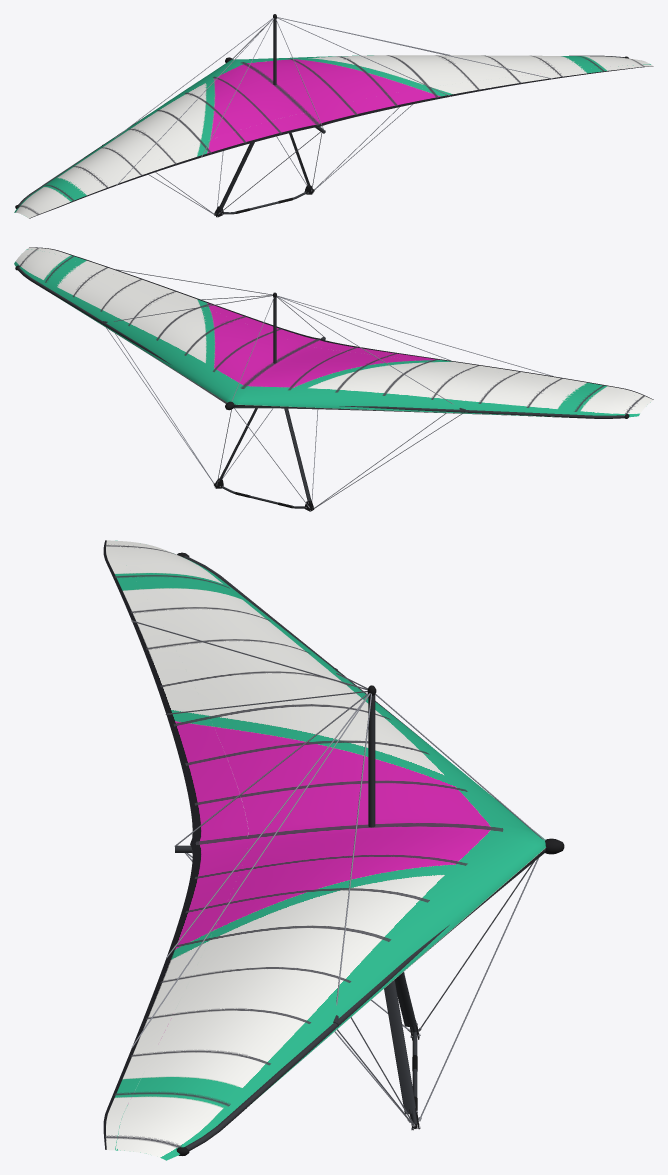
The model's file is glider_ww_u2.glb.
3 renders of one model, top to bottom at view 1: azimuth 30°, elevation 25°; view 2: azimuth 150°, elevation 25°; view 3: azimuth 270°, elevation 25°, orthographic. The views are drawn at different scales.
Parts seen in each view (by area): view 1: Sail, Frame, ControlFrame; view 2: Sail, Frame, ControlFrame; view 3: Sail, Frame, ControlFrame.
Boxes of the visible parts, x1,y1,x2,y2 form: Sail: [14, 55, 653, 218]; Frame: [15, 14, 628, 208]; ControlFrame: [148, 104, 412, 217]; Sail: [14, 247, 653, 417]; Frame: [15, 265, 629, 418]; ControlFrame: [106, 328, 462, 511]; Sail: [103, 540, 546, 1160]; Frame: [131, 552, 564, 1155]; ControlFrame: [185, 853, 538, 1130].
Size of the model in its own units: 9.5 by 2.92 by 3.04.
8 materials, 1 textured.
